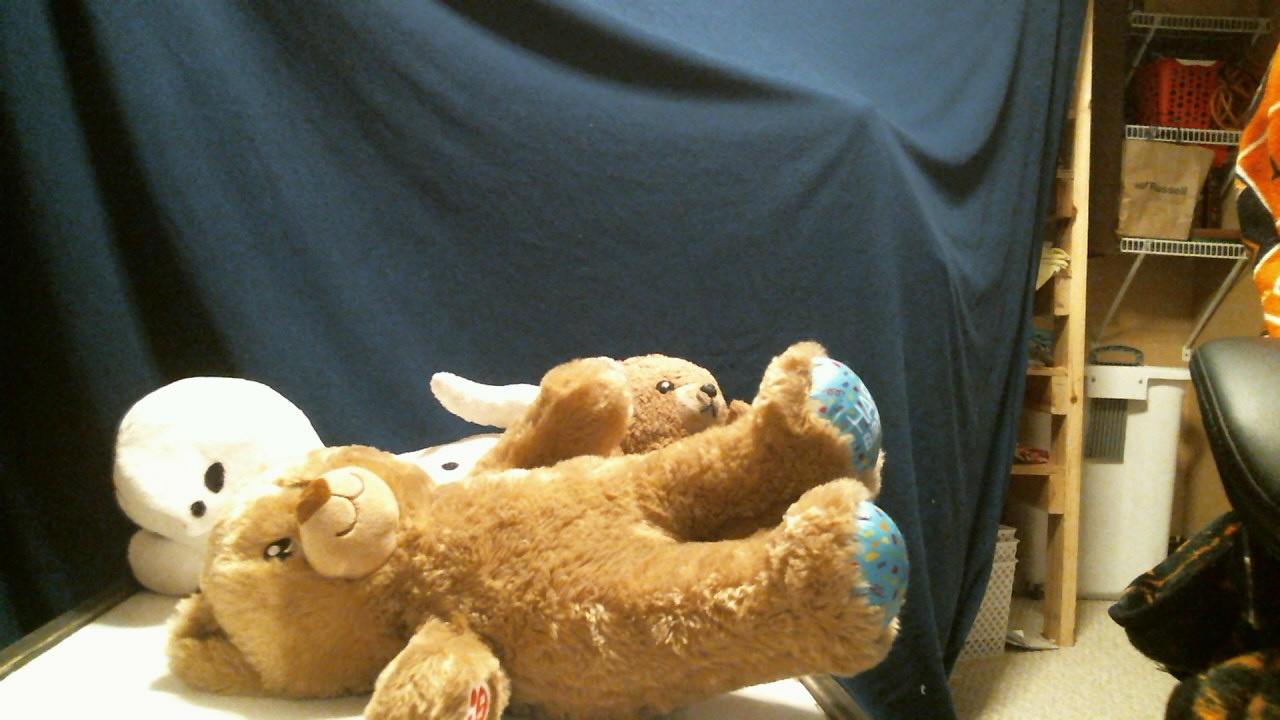Little_Mister_Bear: (632, 357, 734, 430)
